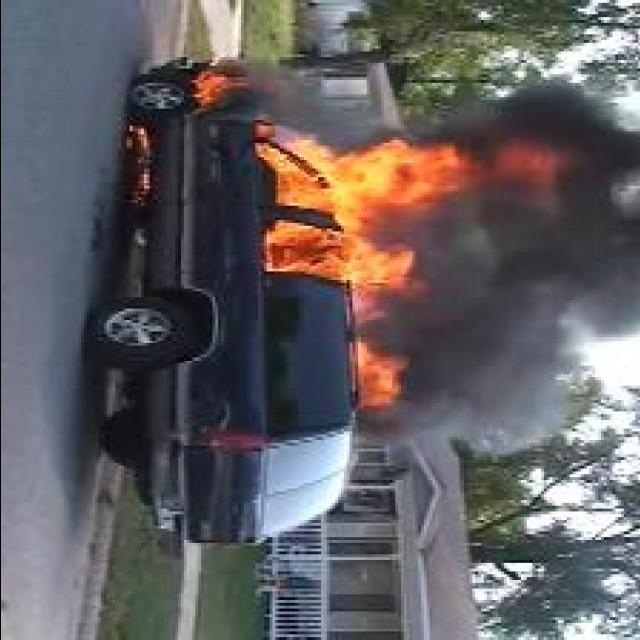Fire: (250, 139, 587, 327), (354, 338, 408, 411), (193, 65, 241, 108)
